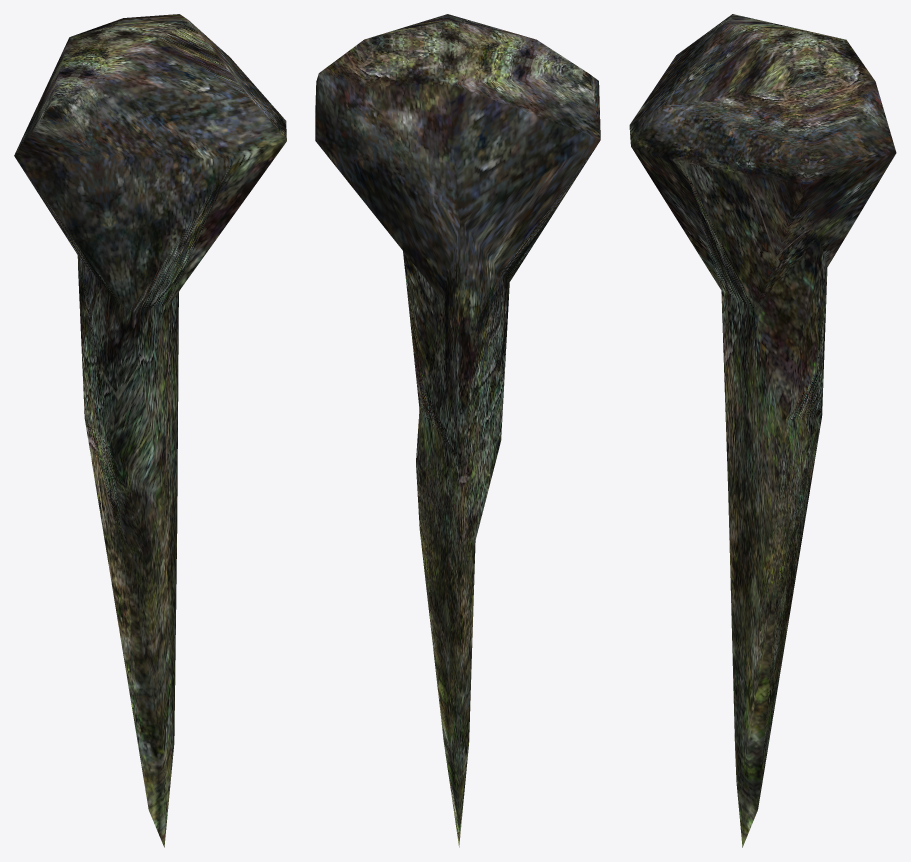
Rendered from thm_all_cave_stalagtite_damprock_b2_l0.fbx.
The picture shows the model from 3 angles, left to right: view 1: azimuth 30°, elevation 25°; view 2: azimuth 150°, elevation 25°; view 3: azimuth 270°, elevation 25°; orthographic projection. The views are drawn at different scales.
Parts seen in each view (by area): view 1: mesh_node; view 2: mesh_node; view 3: mesh_node.
Part boxes in pixels (x1,y1,x2,y2): mesh_node: (14,14,286,847); mesh_node: (315,14,600,847); mesh_node: (629,14,896,847).
Size of the model in its own units: 1.25 by 3.81 by 1.14.
